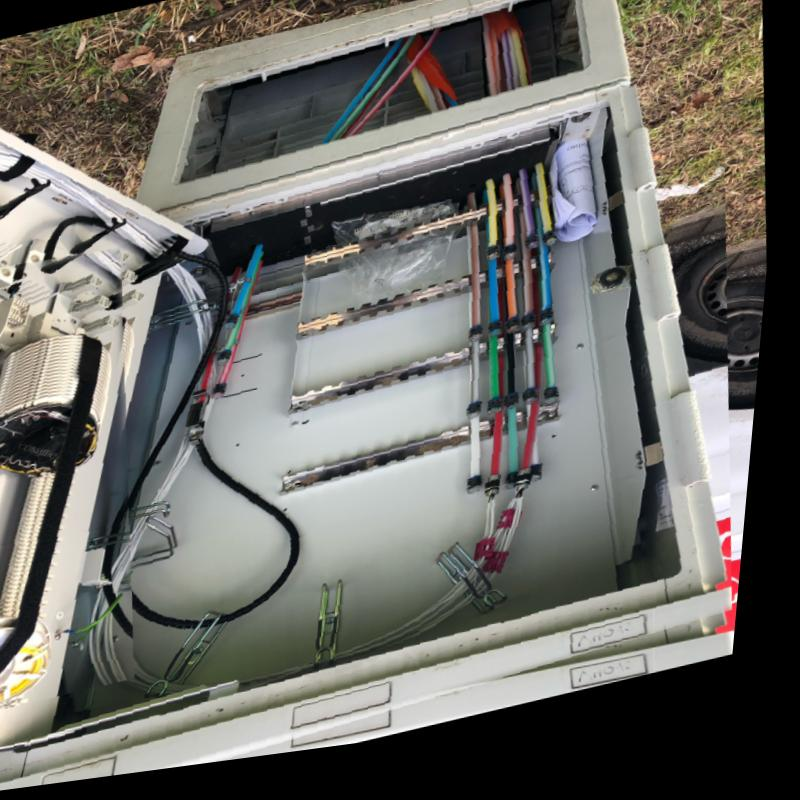NT-Gehause: (0, 0, 745, 794)
Spleiskassetten: (0, 266, 131, 714)
